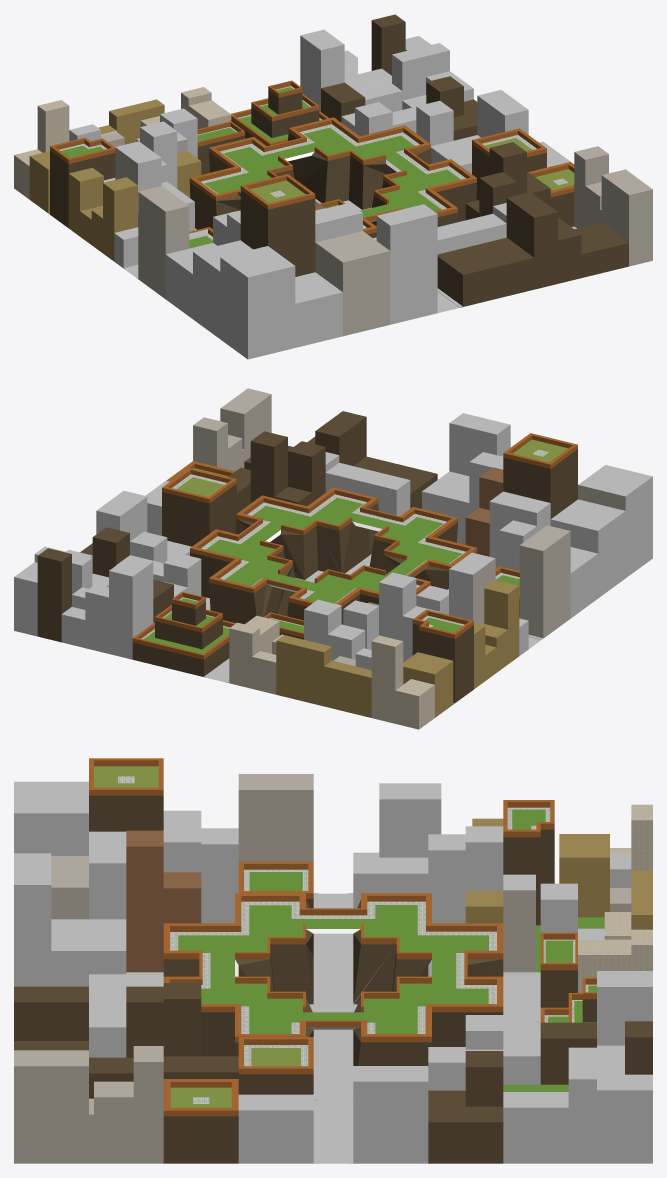
Rendered from city.fbx.
The picture shows the model from 3 angles, top to bottom: view 1: azimuth 30°, elevation 25°; view 2: azimuth 150°, elevation 25°; view 3: azimuth 270°, elevation 25°; orthographic projection. The views are drawn at different scales.
Visible parts, largest first — view 1: Model; view 2: Model; view 3: Model.
Part boxes in pixels (x1,y1,x2,y2): Model: [14, 14, 652, 359]; Model: [14, 388, 652, 729]; Model: [14, 758, 652, 1163].
Size of the model in its own units: 100 by 28.85 by 100.
